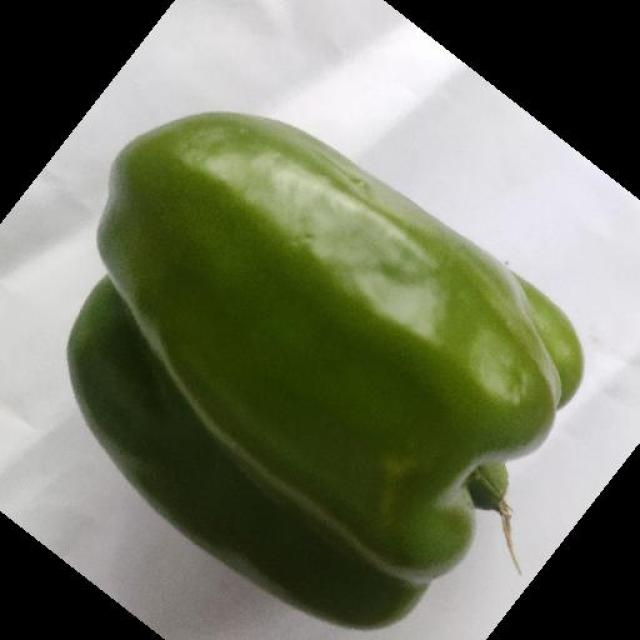Fresh_Capsicum: (86, 98, 549, 564)
